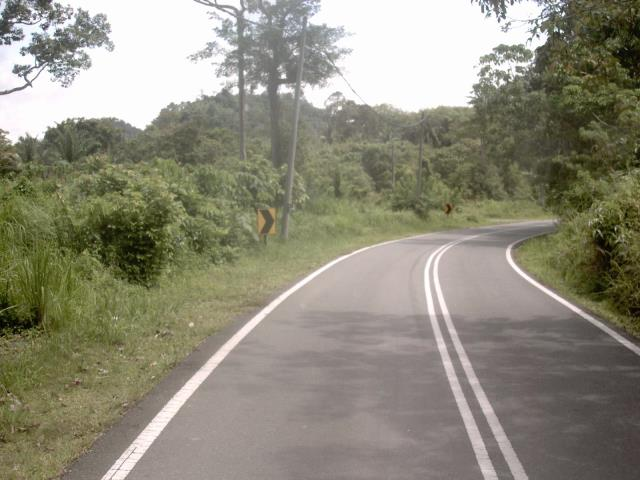traffic_sign: (249, 199, 283, 244)
